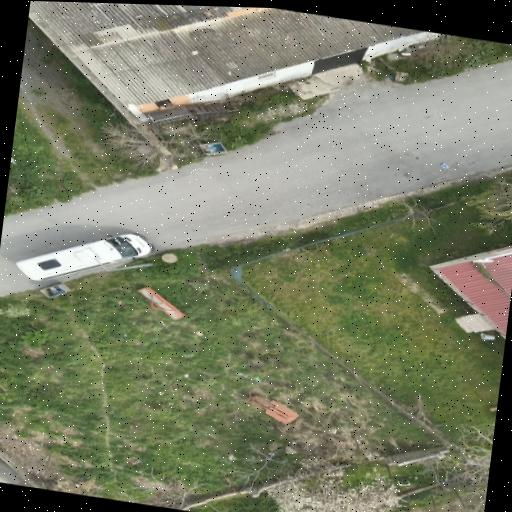bus: (17, 234, 154, 281)
